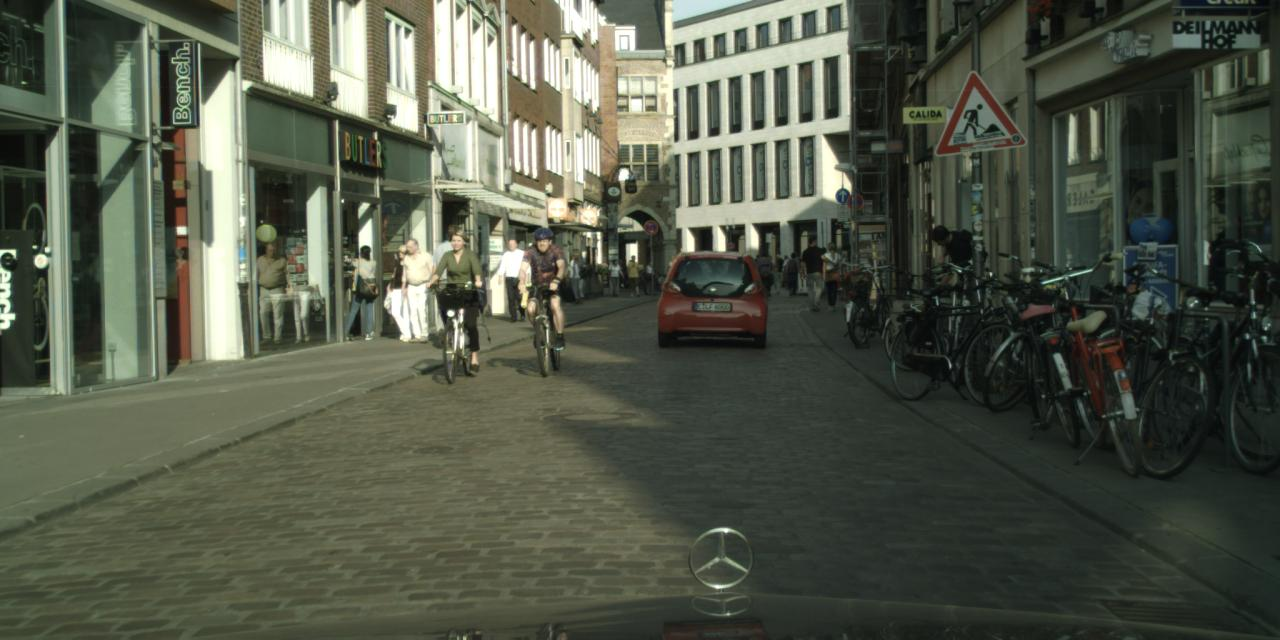ped: (435, 229, 486, 353), (522, 227, 570, 346), (428, 225, 476, 342), (931, 224, 975, 332), (394, 238, 436, 340), (342, 244, 380, 338), (386, 244, 424, 338), (498, 238, 531, 320), (799, 236, 829, 310), (817, 242, 845, 310), (566, 250, 588, 302), (784, 252, 801, 295), (625, 254, 642, 296), (756, 250, 772, 290), (607, 259, 622, 297), (665, 255, 679, 291), (771, 253, 784, 285), (779, 254, 792, 286), (644, 260, 656, 290), (771, 268, 782, 294), (764, 256, 774, 283)
